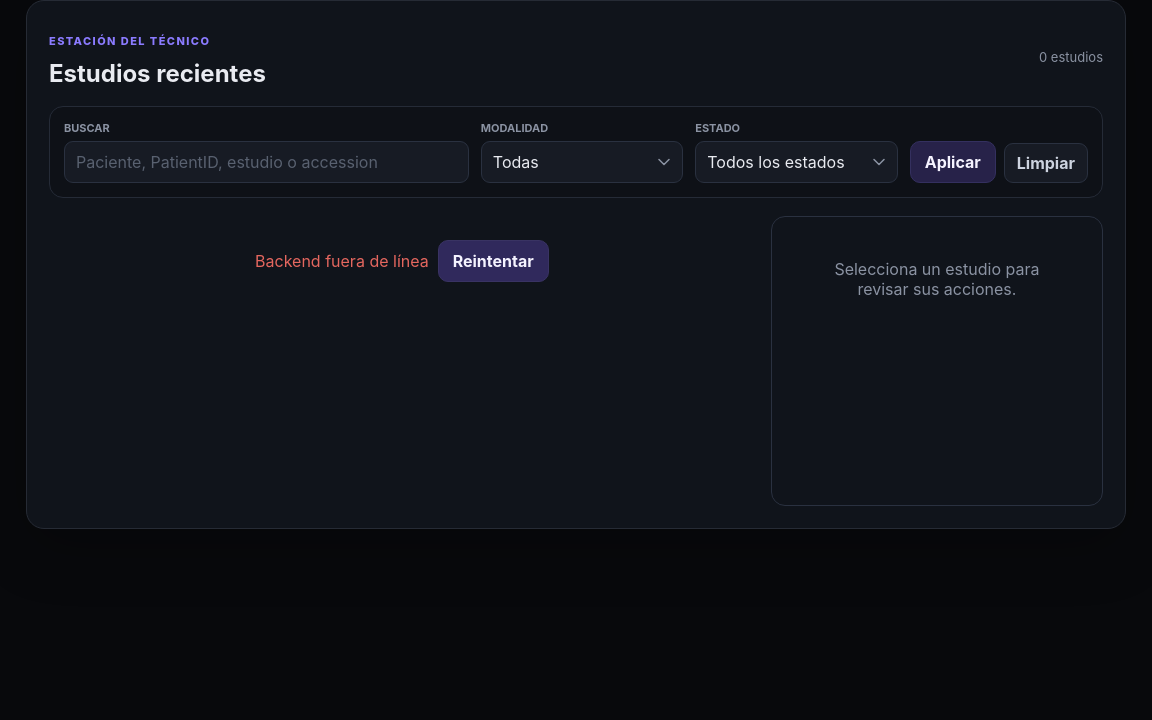
StudiesWorkspace › muestra error y permite reintentar
Expected: the text "Backend fuera de línea" is shown, [255, 251, 429, 271]
Click the button "Reintentar".
click(493, 261)  # box [438, 240, 549, 282]
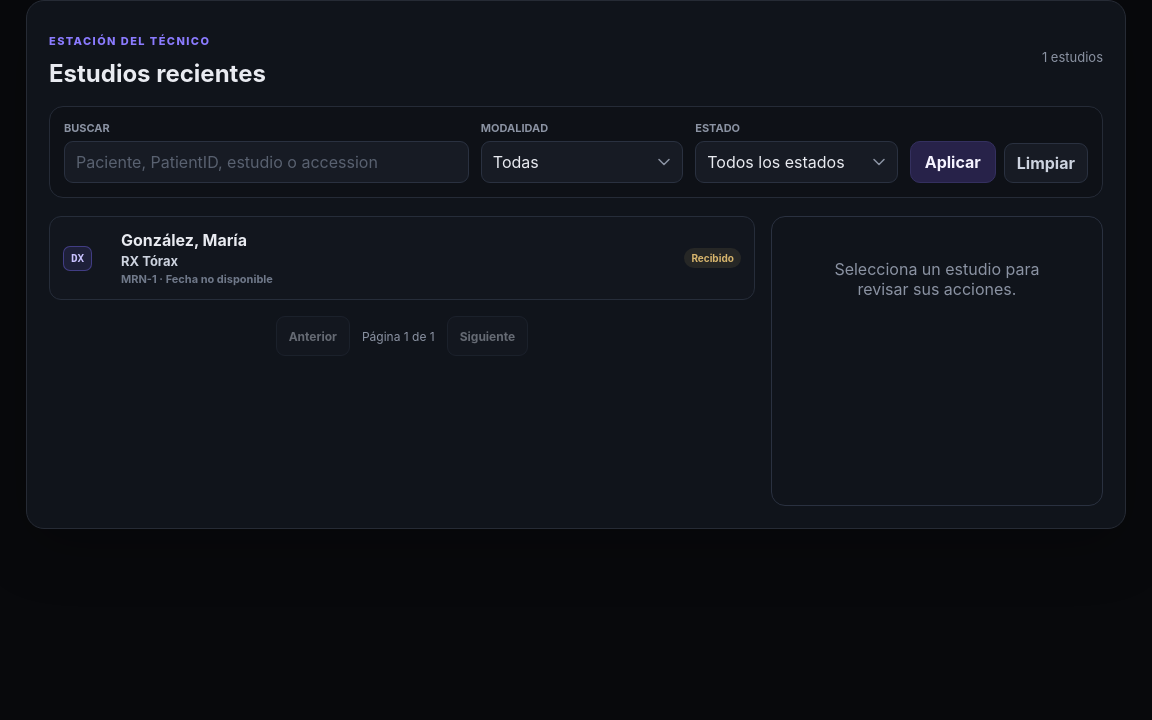
Expected: the text "González, María" is shown, [121, 230, 247, 250]
